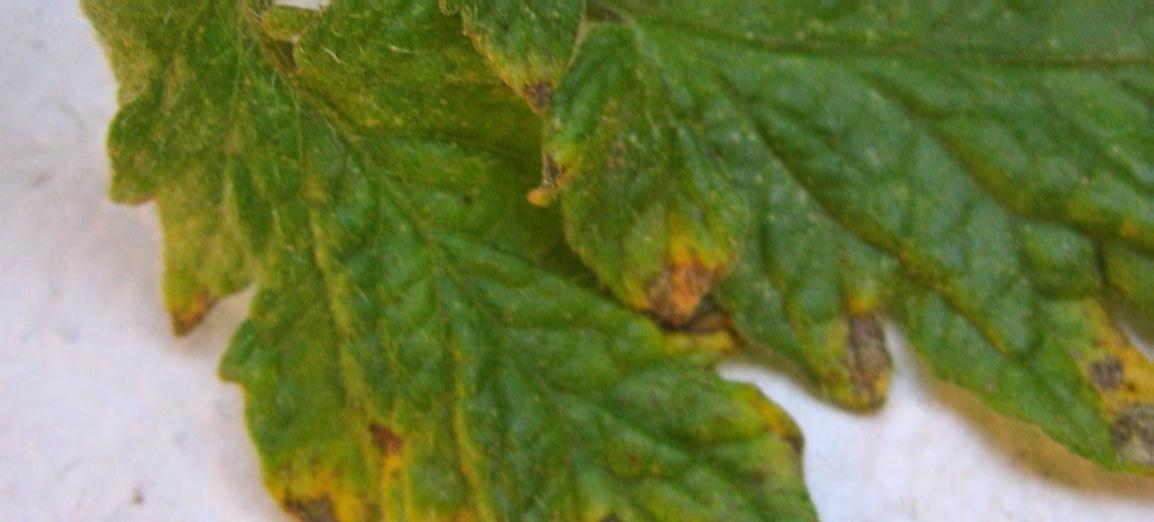Tomato Septoria leaf spot: (130, 0, 1154, 481), (50, 0, 882, 522)
